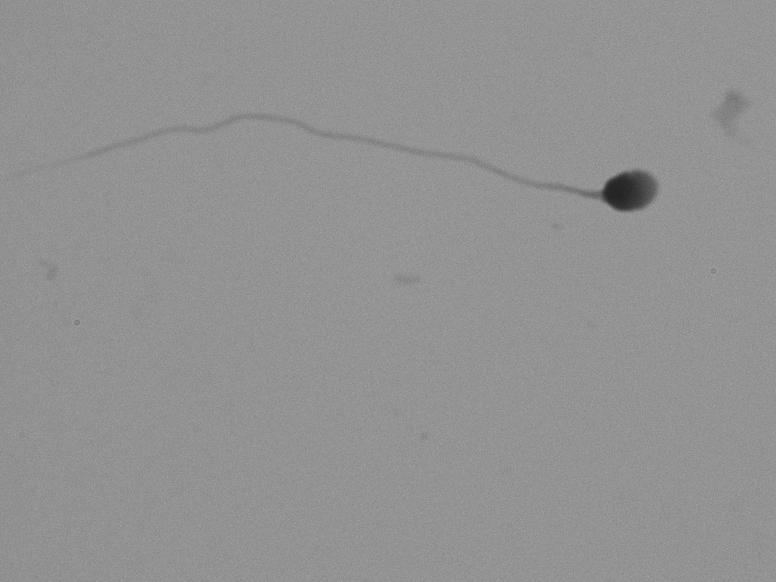Normal: (34, 50, 704, 323)
